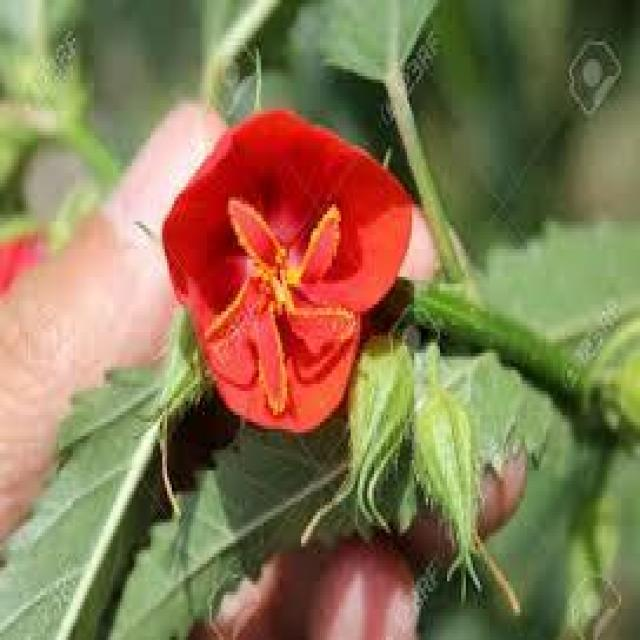organic waste: (148, 102, 414, 438)
